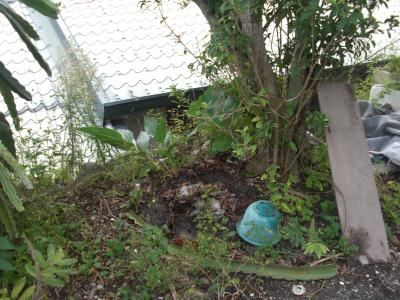bowl: (236, 198, 284, 248)
